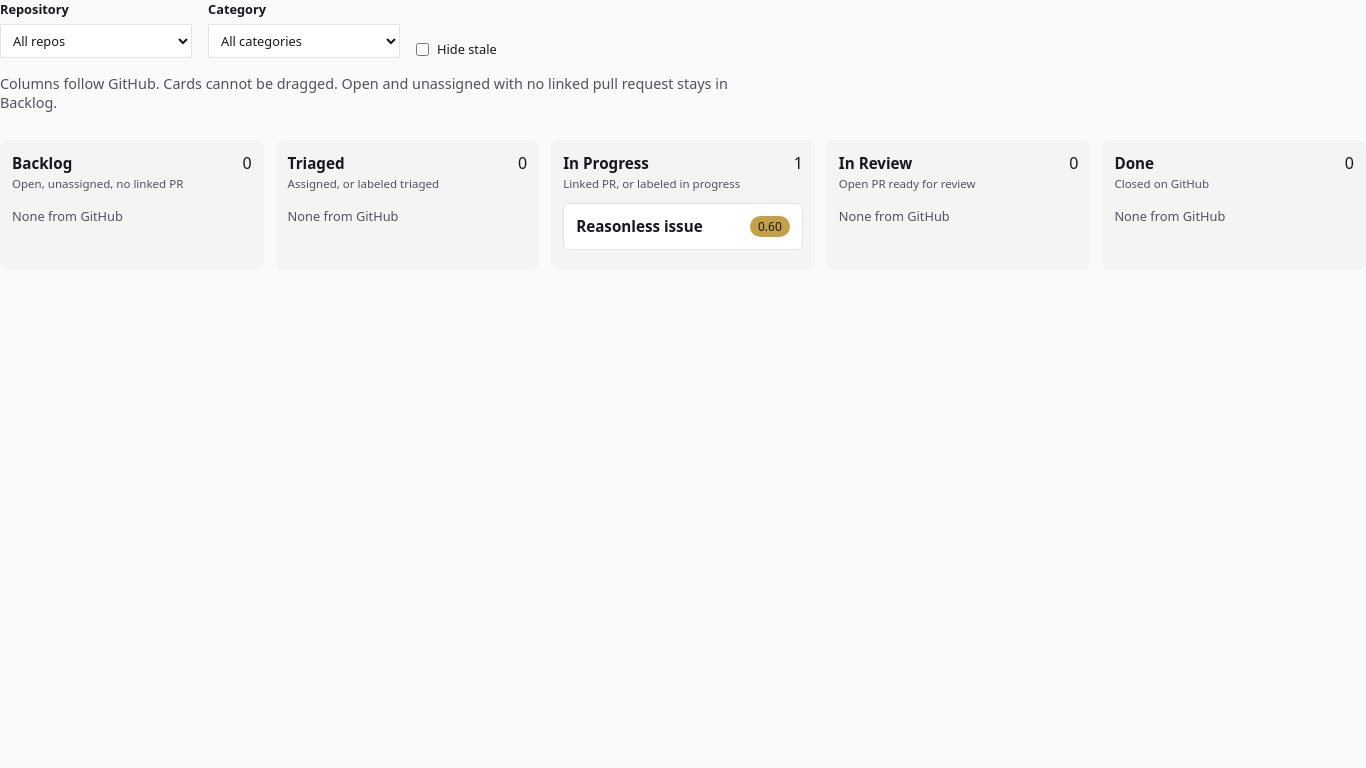
Scenario: explains the deterministic score when Otari reasoning is unavailable
Click the button named "Work index 0.60" at (770, 227), box [750,216,790,237]
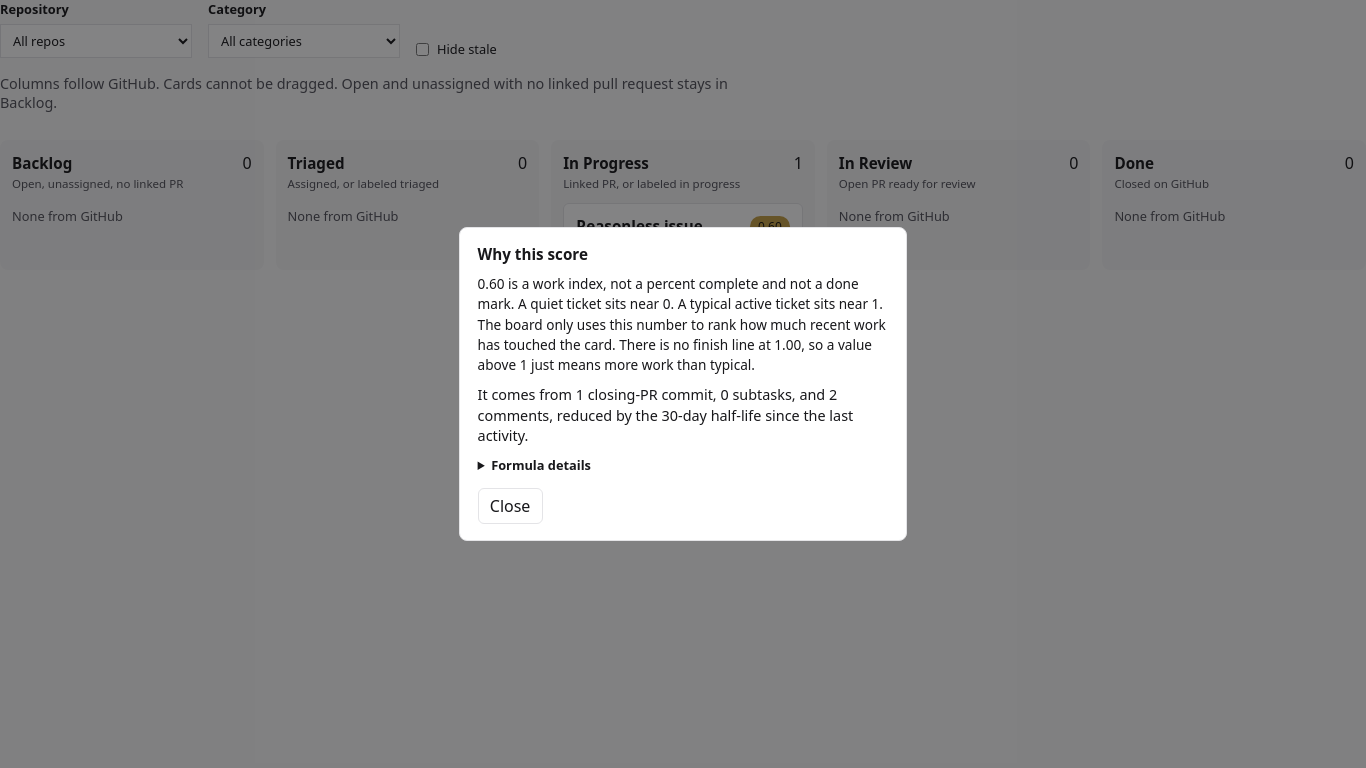
expect the dialog "Why this score" does not show "Otari did not explain this score.": met, box [459,226,907,541]
expect the dialog "Why this score" shows "It comes from 1 closing-PR commit, 0 subtasks, and 2 comments, reduced by the 30-day half-life since the last activity.": met, box [478,385,853,446]
